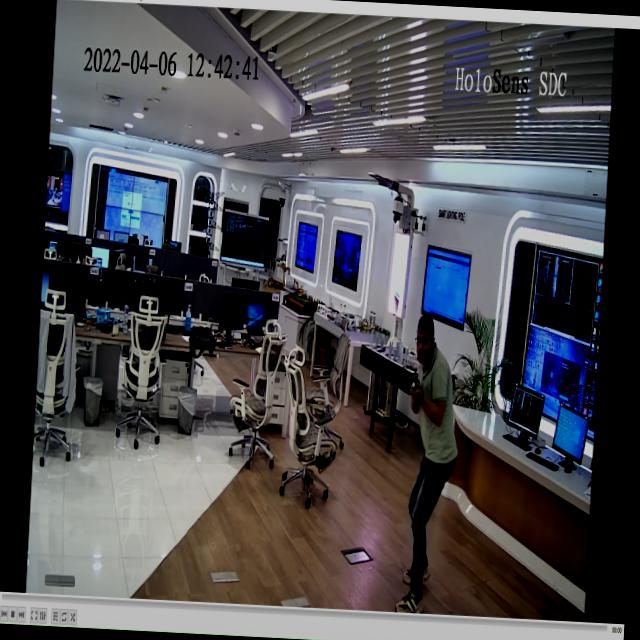long weapon: (402, 361, 432, 408)
